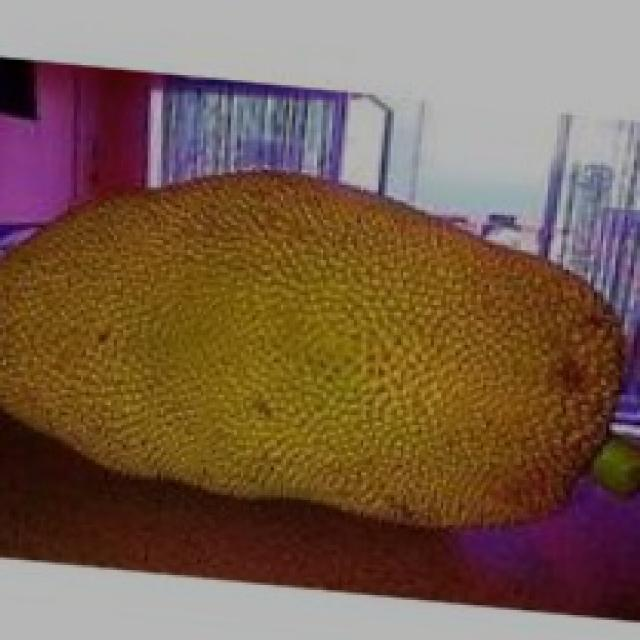Fruit: (0, 143, 400, 545), (264, 155, 640, 570)
